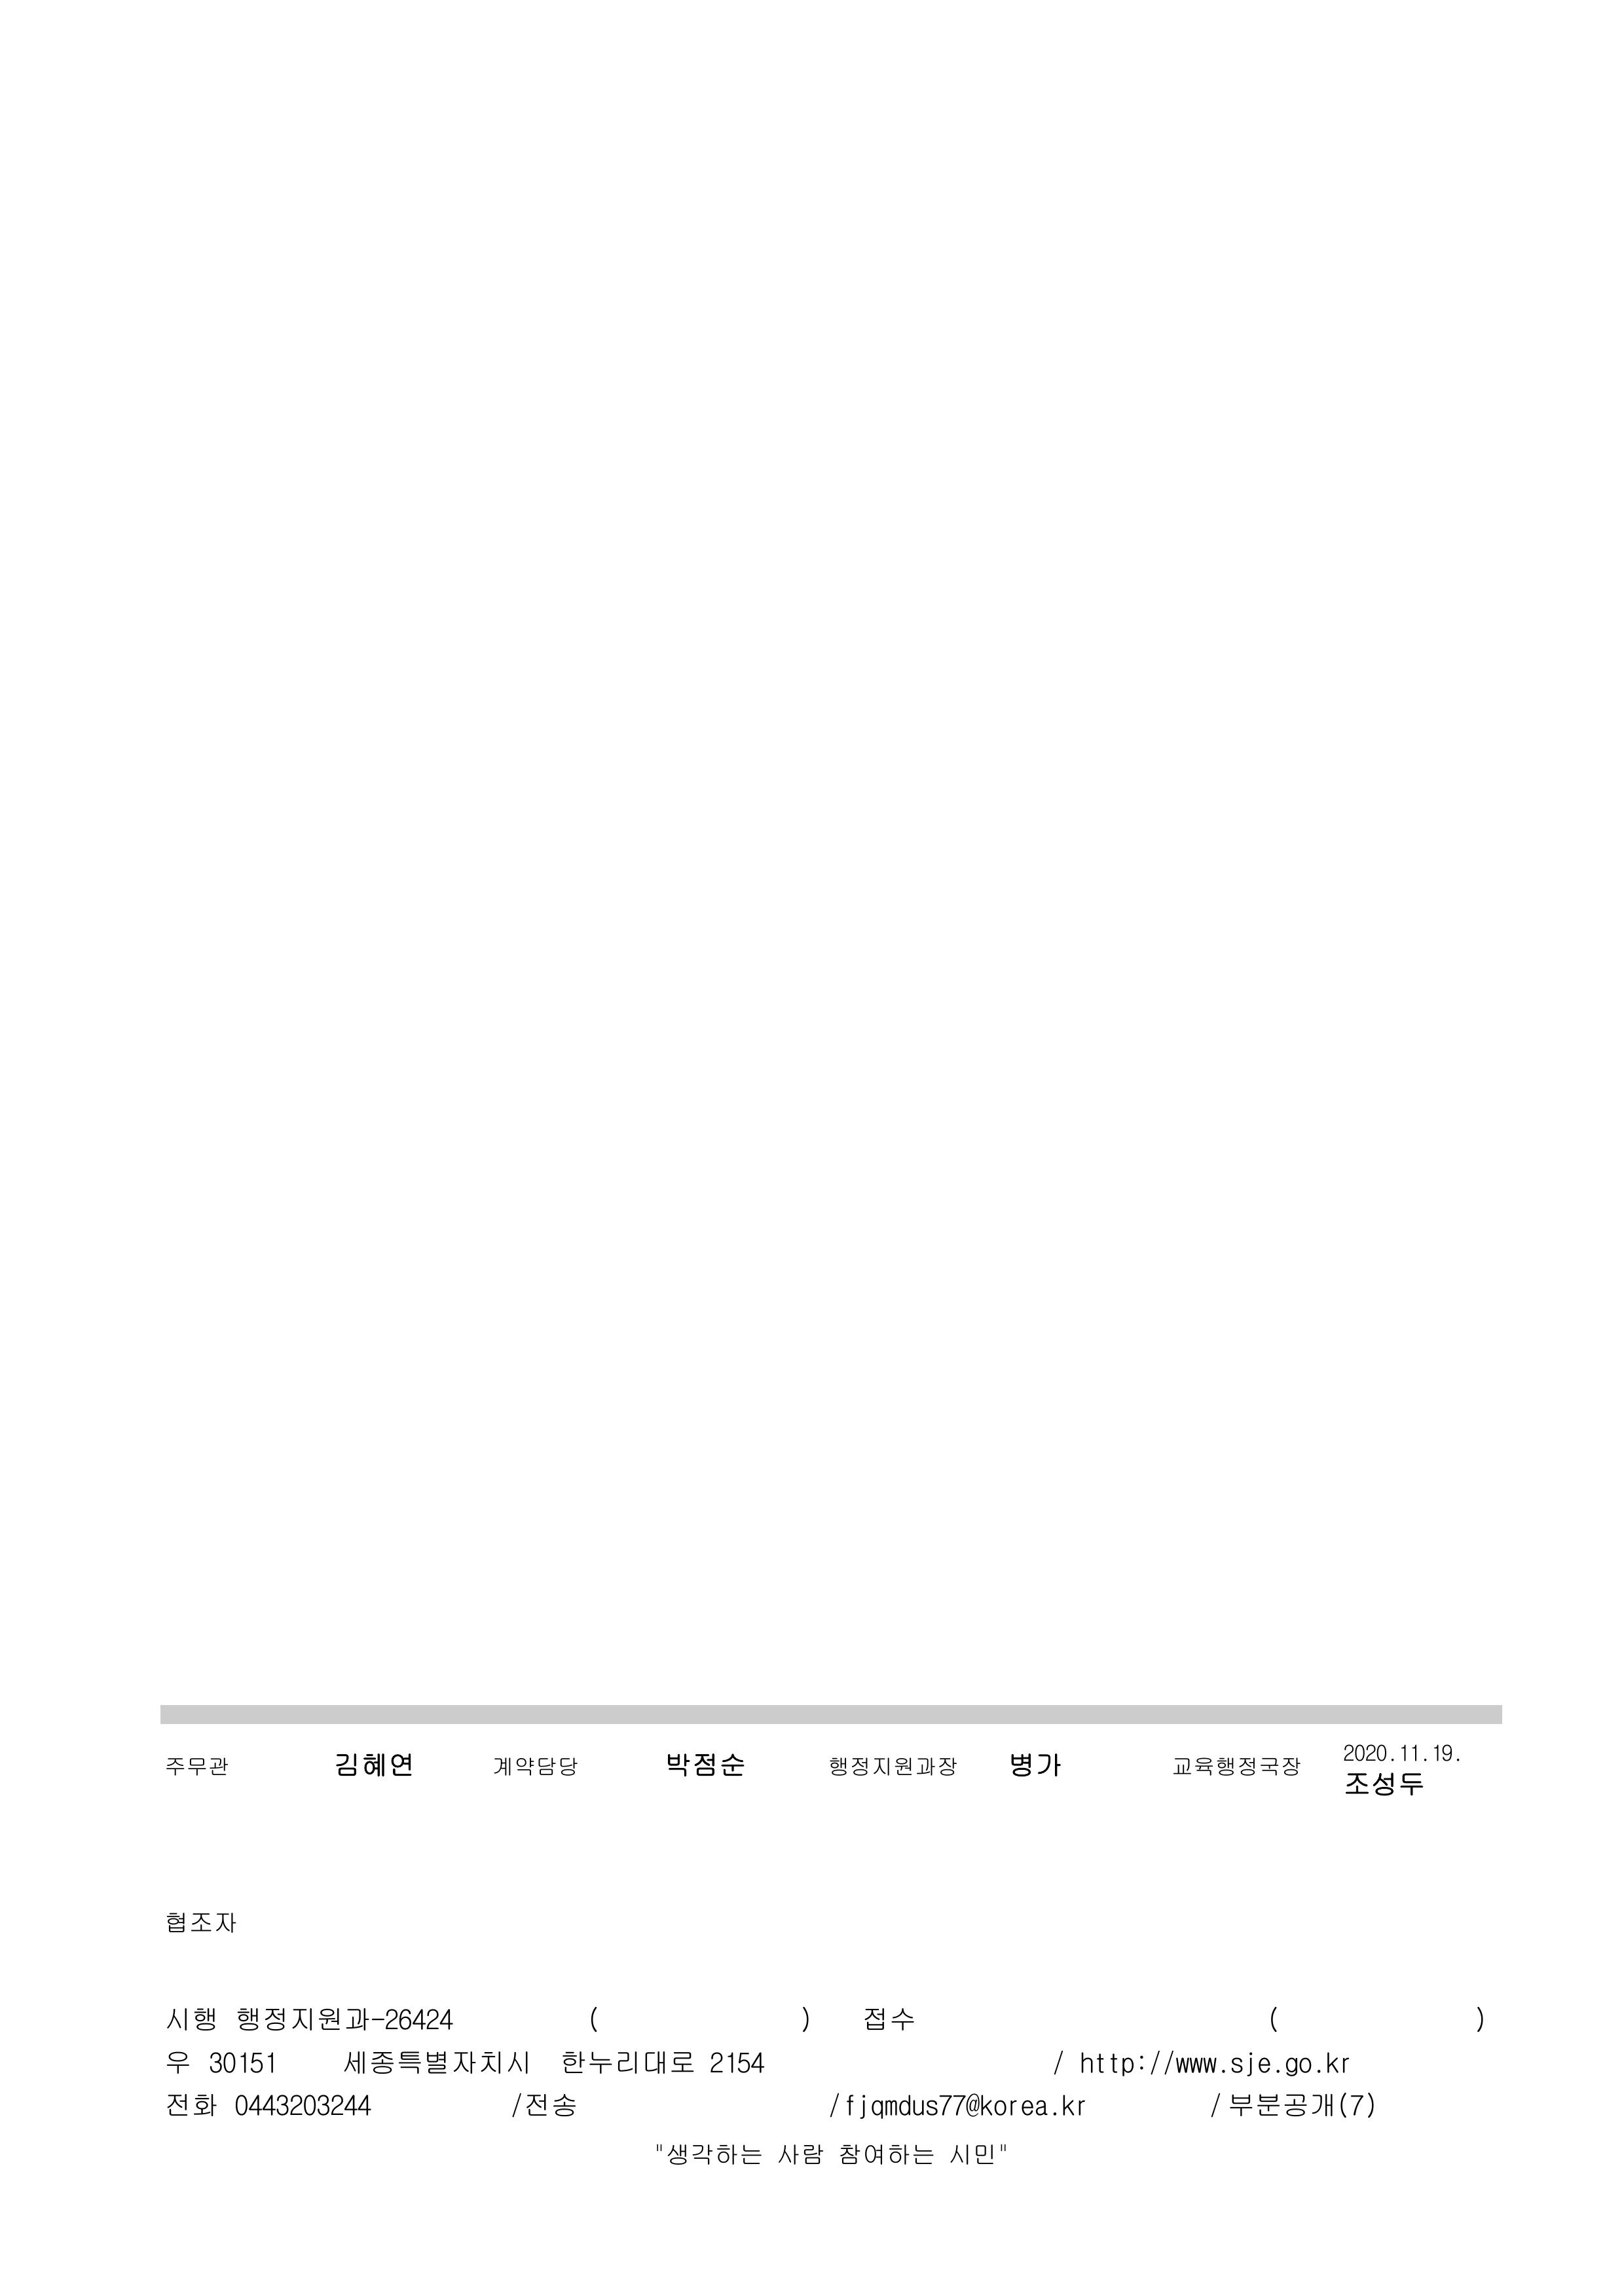t: (1226, 2087, 1377, 2123), (229, 2087, 373, 2119), (231, 2004, 344, 2040), (341, 2044, 448, 2080), (559, 2047, 695, 2076), (828, 1753, 961, 1778), (663, 2137, 764, 2169), (836, 2137, 936, 2169), (1172, 1757, 1301, 1778), (448, 2044, 534, 2076), (348, 2008, 455, 2033), (1341, 1767, 1424, 1800), (846, 2094, 953, 2119), (663, 1746, 746, 1778), (953, 2094, 1050, 2119), (333, 1750, 416, 1778), (204, 2047, 280, 2076), (506, 2090, 577, 2119), (491, 1757, 581, 1778), (1007, 1750, 1065, 1782), (1079, 2050, 1149, 2076), (168, 1911, 240, 1936), (774, 2137, 828, 2169), (706, 2047, 767, 2076), (164, 2004, 219, 2033), (860, 2004, 914, 2033), (950, 2144, 1007, 2169), (164, 1757, 229, 1778), (168, 2094, 222, 2119), (1162, 2055, 1223, 2076), (1226, 2055, 1273, 2080), (1283, 2055, 1327, 2080), (1341, 1742, 1388, 1764), (1061, 2097, 1090, 2119), (1323, 2055, 1352, 2076), (1431, 1742, 1456, 1764), (168, 2051, 190, 2076)
